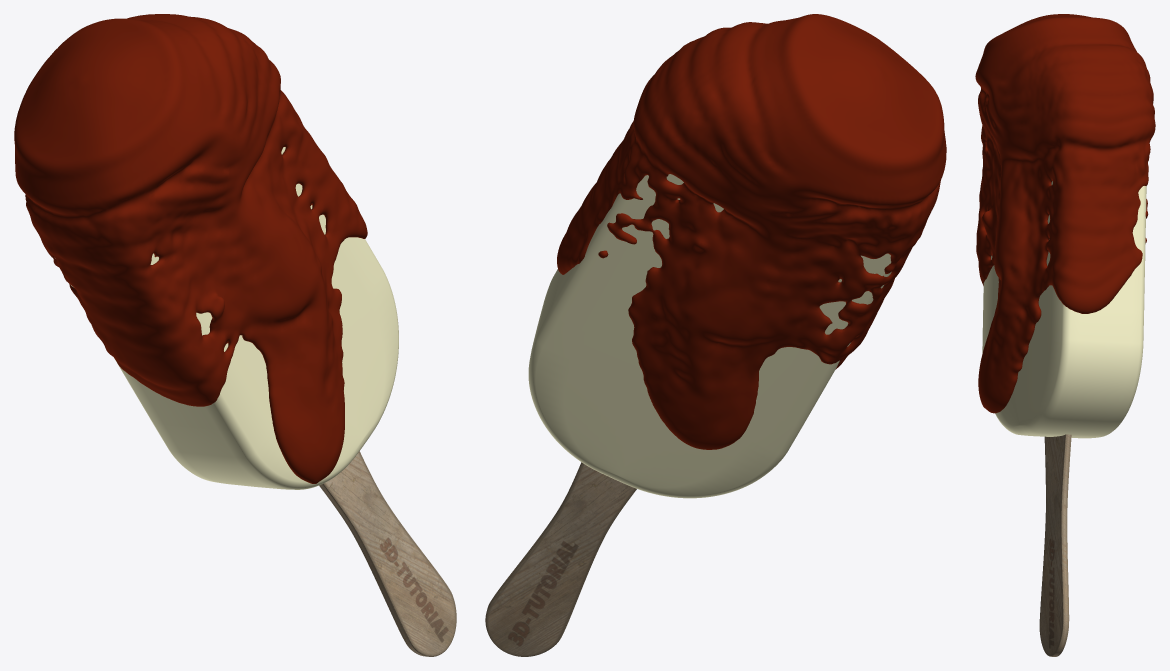
File: summertime_eis_sketchfab.c4d.fbx
3 views of the same model, side by side, from view 1: azimuth 30°, elevation 25°; view 2: azimuth 150°, elevation 25°; view 3: azimuth 270°, elevation 25° (orthographic). The views are drawn at different scales.
Parts seen in each view (by area): view 1: schoki, eis, stiel_1; view 2: schoki, eis, stiel_1; view 3: schoki, eis, stiel_1.
Part boxes in pixels (box(x1,y1,x2,y2)): schoki: box(14, 14, 367, 483); eis: box(55, 147, 398, 489); stiel_1: box(319, 451, 456, 656); schoki: box(557, 14, 946, 449); eis: box(528, 174, 891, 498); stiel_1: box(485, 462, 636, 656); schoki: box(975, 14, 1155, 413); eis: box(982, 181, 1146, 438); stiel_1: box(1039, 434, 1071, 656).
Bounding box in the file's own units: 801 × 1231 × 377.
Materials: 3 (1 with a texture image).
